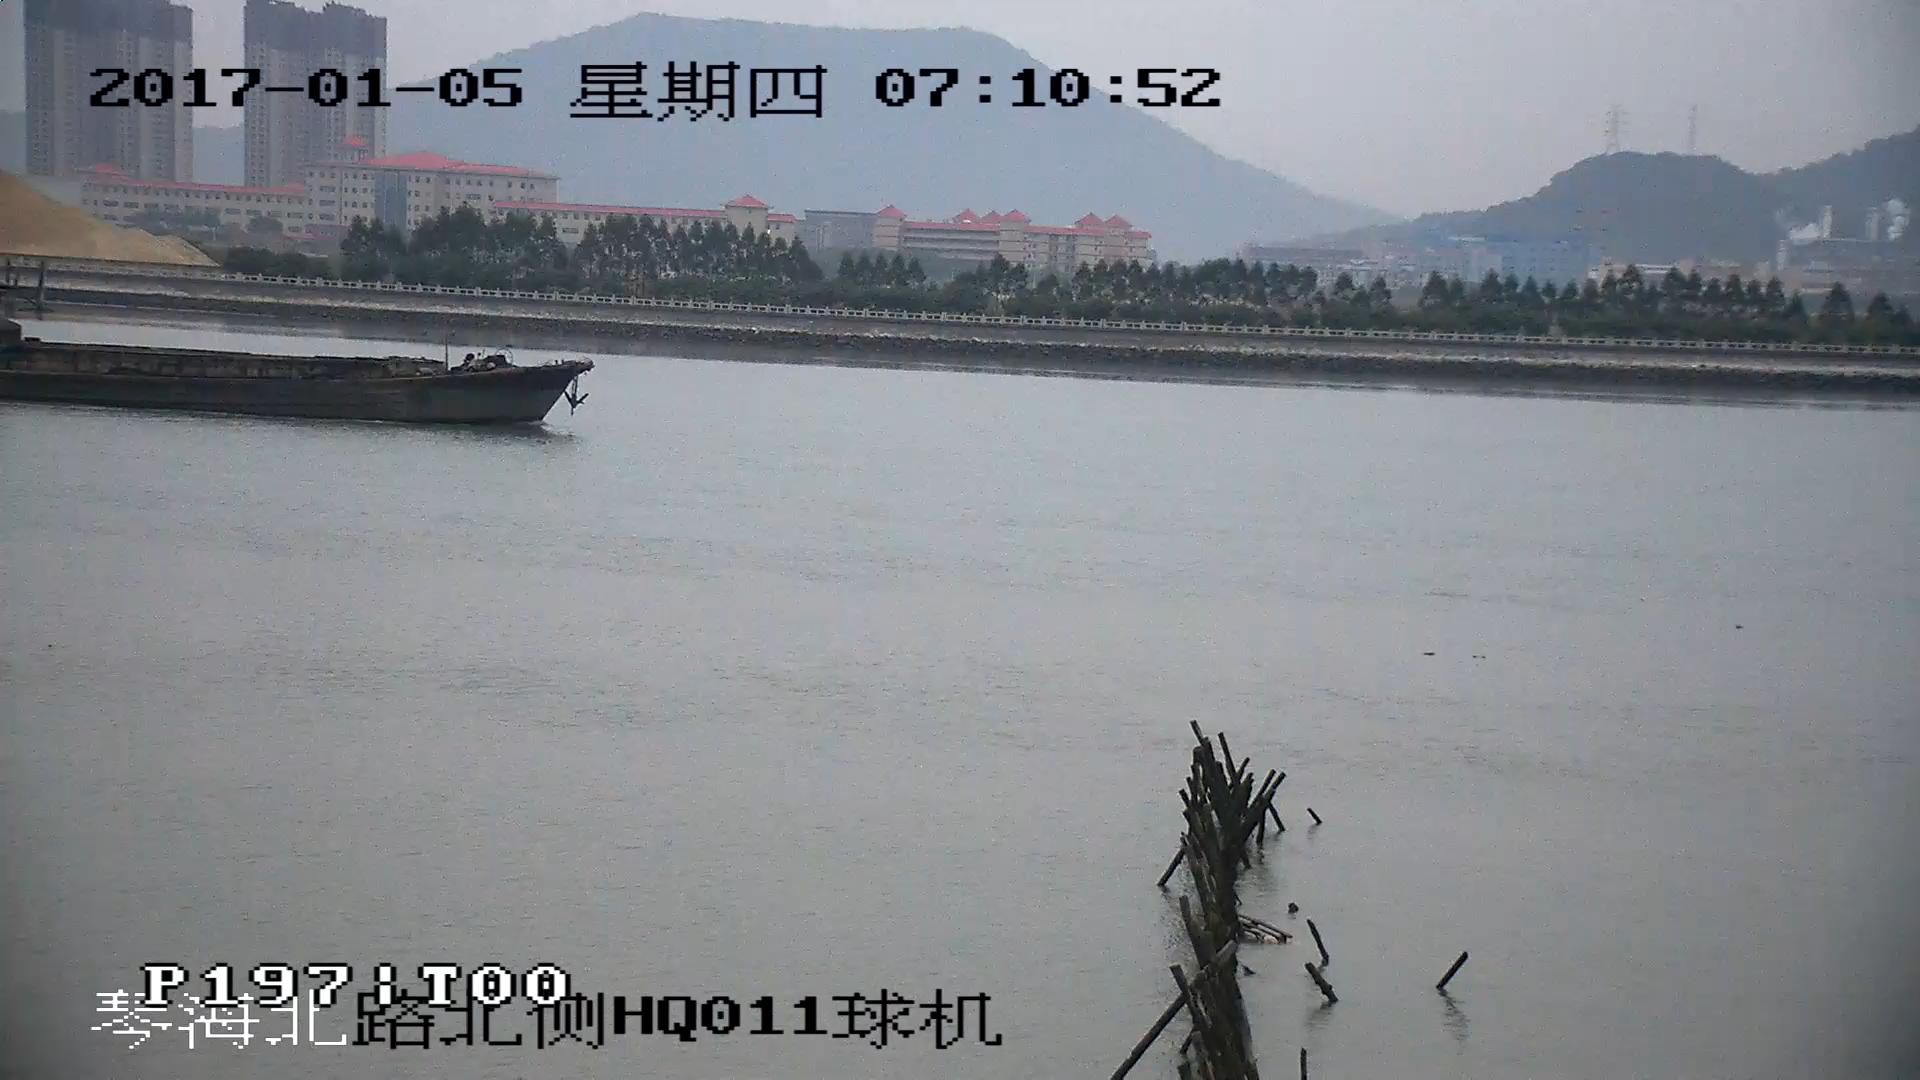bulk cargo carrier: (1, 340, 587, 424)
